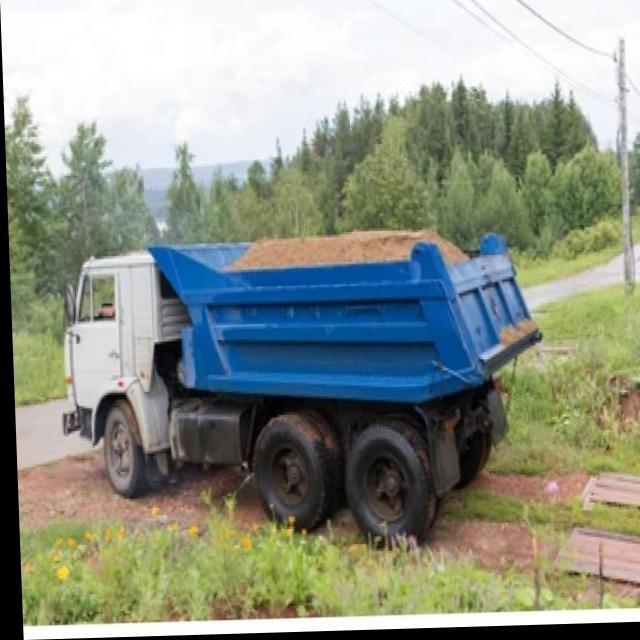uncovered: (70, 221, 545, 514)
